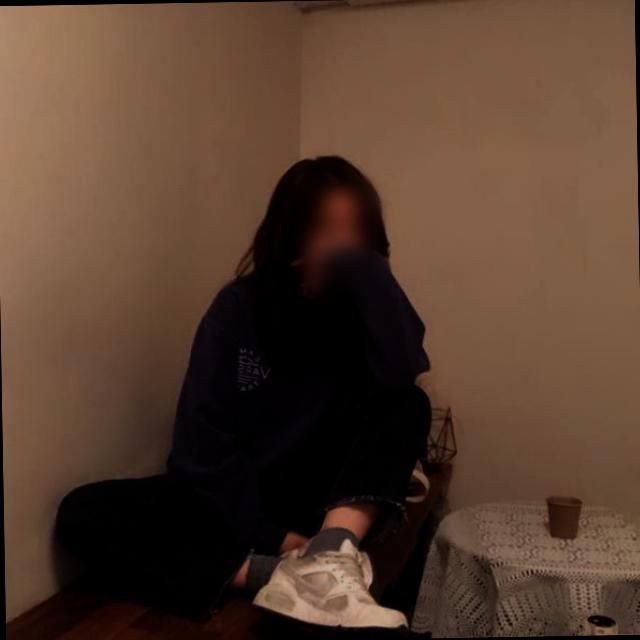denimpants: (56, 387, 428, 620)
longsleeve: (160, 262, 432, 558)
